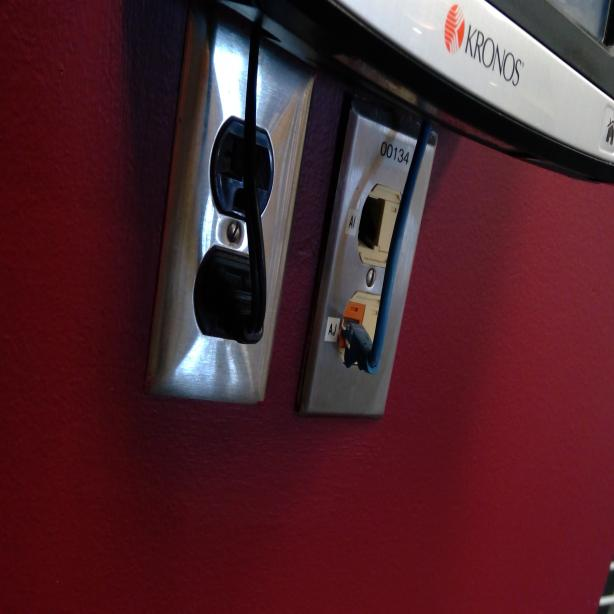typeb: (222, 133, 262, 211)
